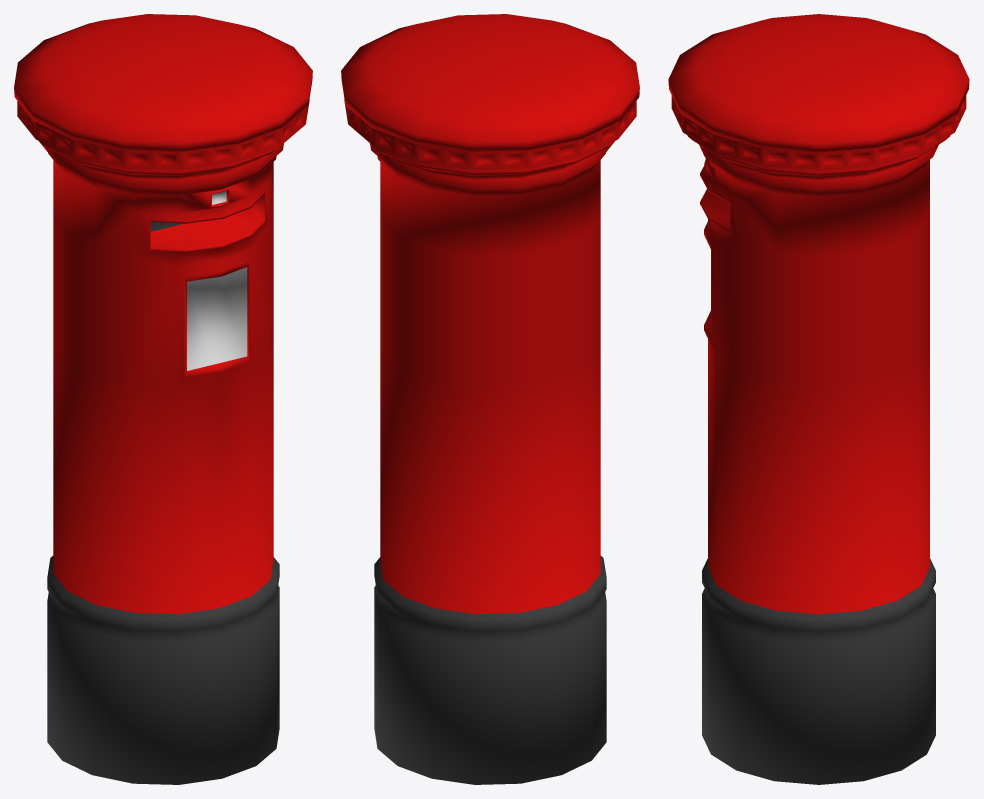
The model's file is postbox.fbx.
3 views of the same model, side by side, from view 1: azimuth 30°, elevation 25°; view 2: azimuth 150°, elevation 25°; view 3: azimuth 270°, elevation 25° (orthographic).
Visible parts, largest first — view 1: Text; view 2: Text; view 3: Text.
Boxes of the visible parts, x1,y1,x2,y2 form: Text: (14,14,312,784); Text: (341,14,639,784); Text: (668,14,969,784).
Bounding box in the file's own units: 20.98 × 52.49 × 20.98.
